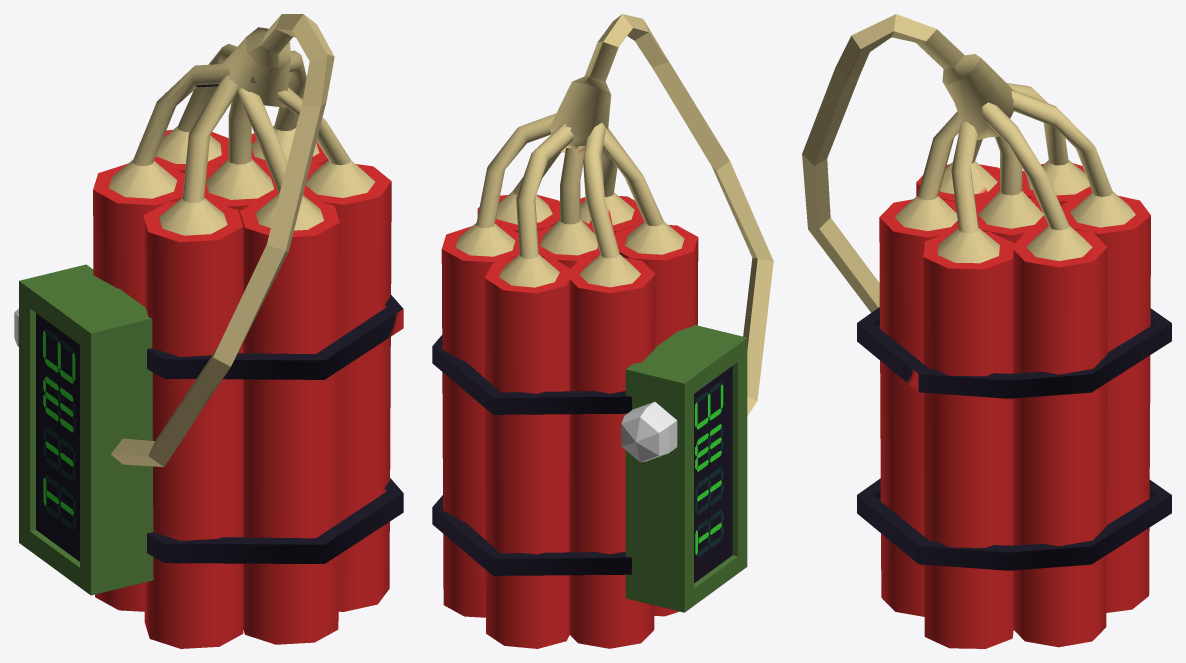
File: tnt.fbx
3 views of the same model, side by side, from view 1: azimuth 30°, elevation 25°; view 2: azimuth 150°, elevation 25°; view 3: azimuth 270°, elevation 25° (orthographic). The views are drawn at different scales.
Visible parts, largest first — view 1: Cylinder014; view 2: Cylinder014, Sphere001; view 3: Cylinder014.
Boxes of the visible parts, x1=… form: Cylinder014: x1=19, y1=14, x2=403, y2=648; Cylinder014: x1=432, y1=14, x2=773, y2=648; Sphere001: x1=621, y1=401, x2=677, y2=462; Cylinder014: x1=802, y1=14, x2=1171, y2=648.
Size of the model in its own units: 63.1 by 124 by 71.18.
